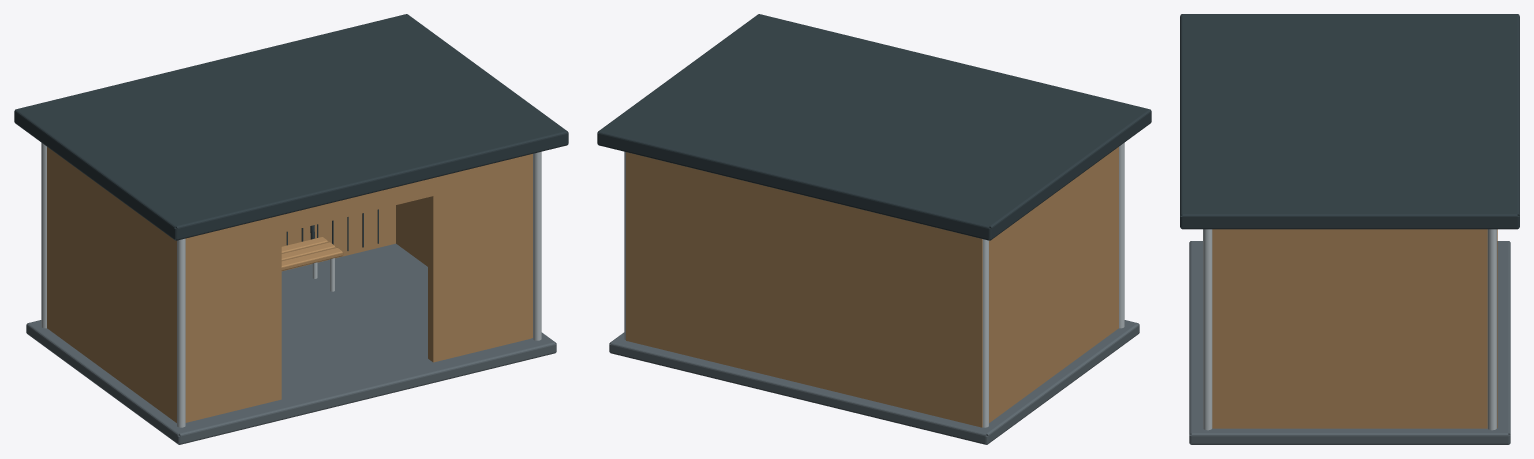
File: basketball-club-and-street-courts-changing-pavilion-d588e108__28574.glb
3 renders of one model, left to right at view 1: azimuth 30°, elevation 25°; view 2: azimuth 150°, elevation 25°; view 3: azimuth 270°, elevation 25°, orthographic. The views are drawn at different scales.
Parts seen in each view (by area): view 1: changing-pavilion; view 2: changing-pavilion; view 3: changing-pavilion.
Boxes of the visible parts, x1,y1,x2,y2 form: changing-pavilion: [14, 14, 568, 444]; changing-pavilion: [597, 14, 1151, 444]; changing-pavilion: [1180, 14, 1519, 444].
Bounding box in the file's own units: 5.2 × 2.82 × 3.7.
